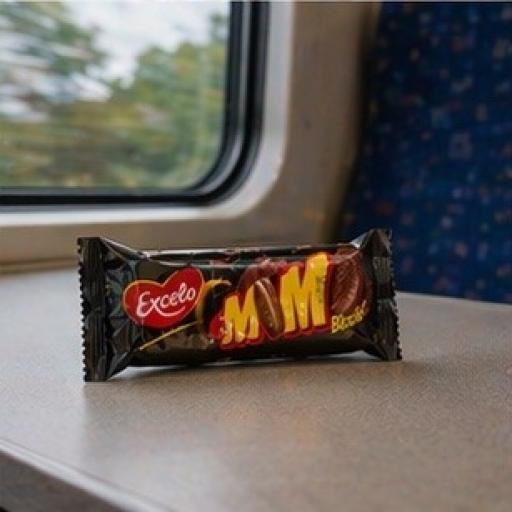MOMO: (34, 179, 448, 456)
